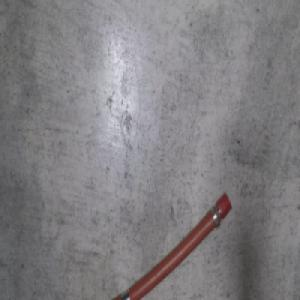Hose: (100, 188, 231, 300)
